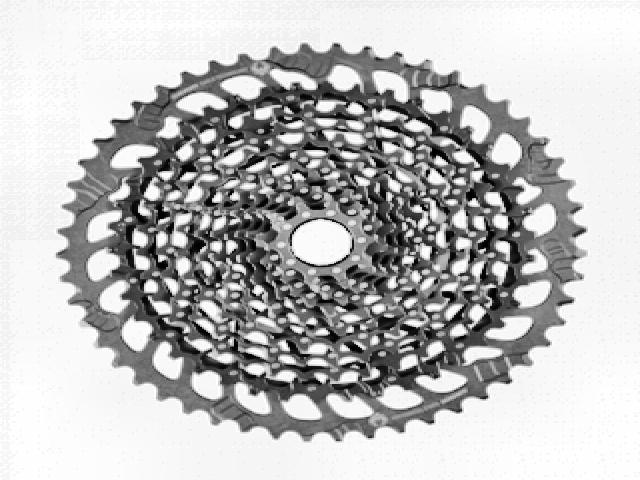cassette: (58, 41, 586, 444)
